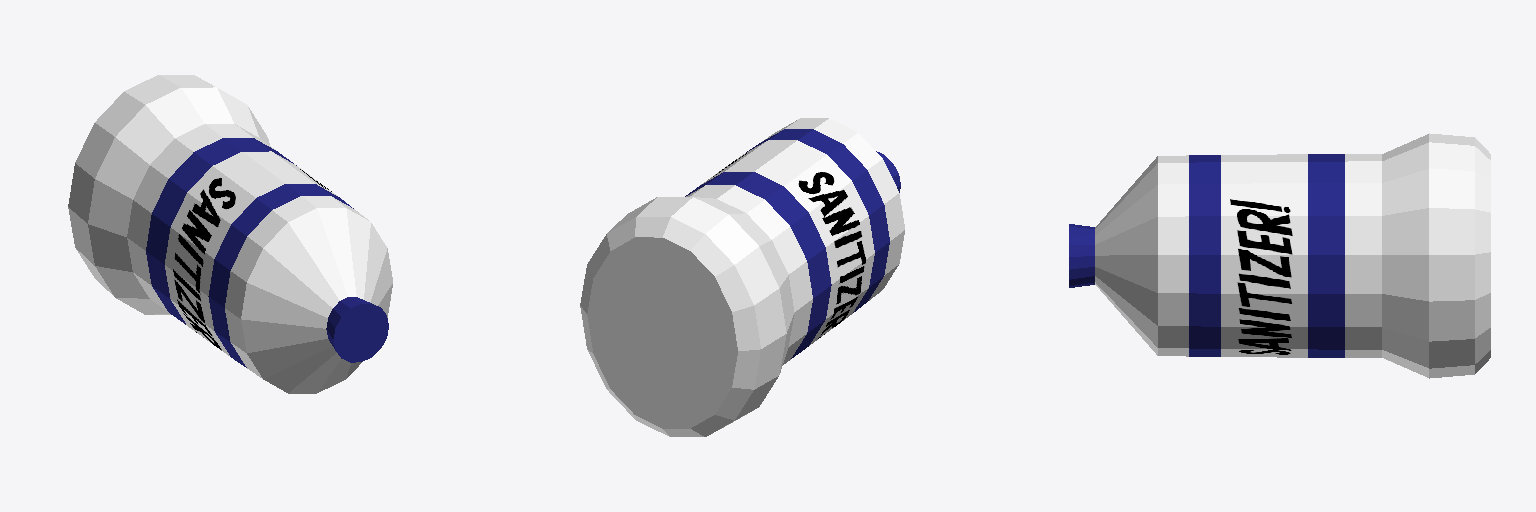
3 renders of one model, left to right at view 1: azimuth 30°, elevation 25°; view 2: azimuth 150°, elevation 25°; view 3: azimuth 270°, elevation 25°, orthographic.
Parts seen in each view (by area): view 1: Sanitizer.001; view 2: Sanitizer.001; view 3: Sanitizer.001.
Boxes of the visible parts, box(x1,y1,x2,y2) form: Sanitizer.001: box(68, 75, 392, 393); Sanitizer.001: box(580, 118, 904, 436); Sanitizer.001: box(1069, 133, 1490, 378).
Bounding box in the file's own units: 0.244 × 0.2837 × 0.476.
Materials: 1 (1 with a texture image).